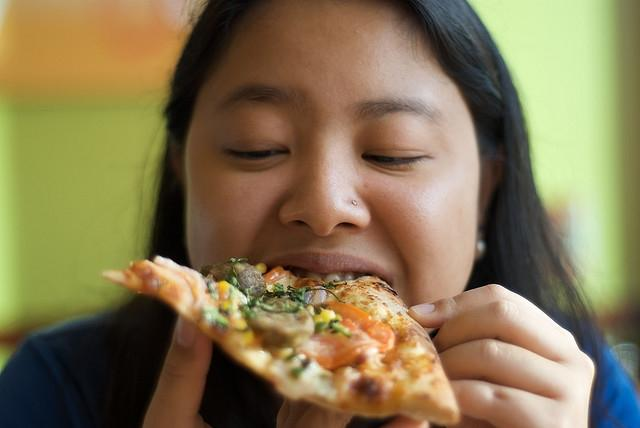mushroom: (250, 310, 314, 348), (209, 262, 267, 296)
tomato: (296, 301, 396, 368), (263, 266, 284, 284)
